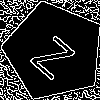Z: (29, 26, 83, 81)
